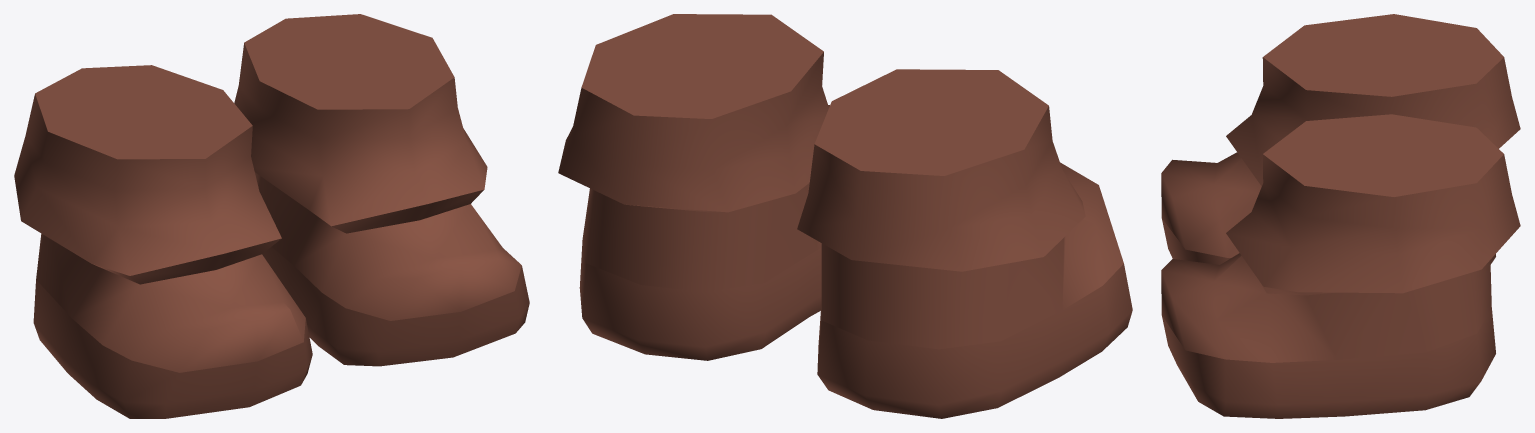
Rendered from Shoes_1.fbx.
3 views of the same model, side by side, from view 1: azimuth 30°, elevation 25°; view 2: azimuth 150°, elevation 25°; view 3: azimuth 270°, elevation 25° (orthographic). The views are drawn at different scales.
Visible parts, largest first — view 1: Shoes_1; view 2: Shoes_1; view 3: Shoes_1.
Boxes of the visible parts, x1,y1,x2,y2 form: Shoes_1: (14,14,529,418); Shoes_1: (558,14,1132,418); Shoes_1: (1161,14,1520,418).
Size of the model in its own units: 43.68 by 21.61 by 32.47.
